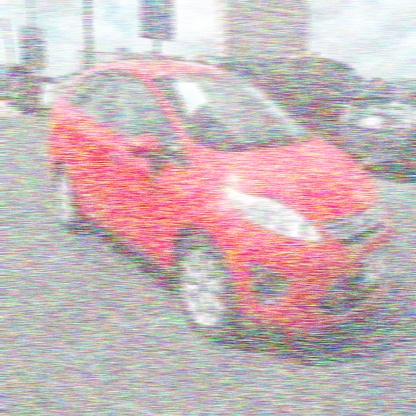Vehicle: (47, 59, 396, 348)
